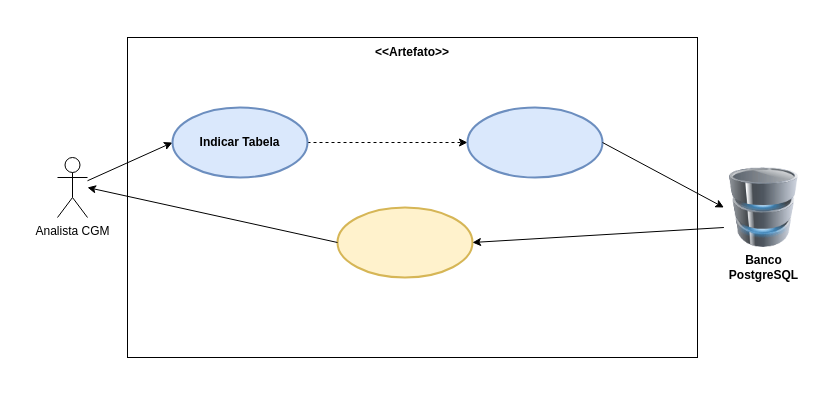
This 834x404 diagram has some shape labels left out. The centre of each missing label's shape, as x and y in pixels:
"Executa Script SQL" goes at [534,142].
"Retorna Create Table" goes at [404,242].
